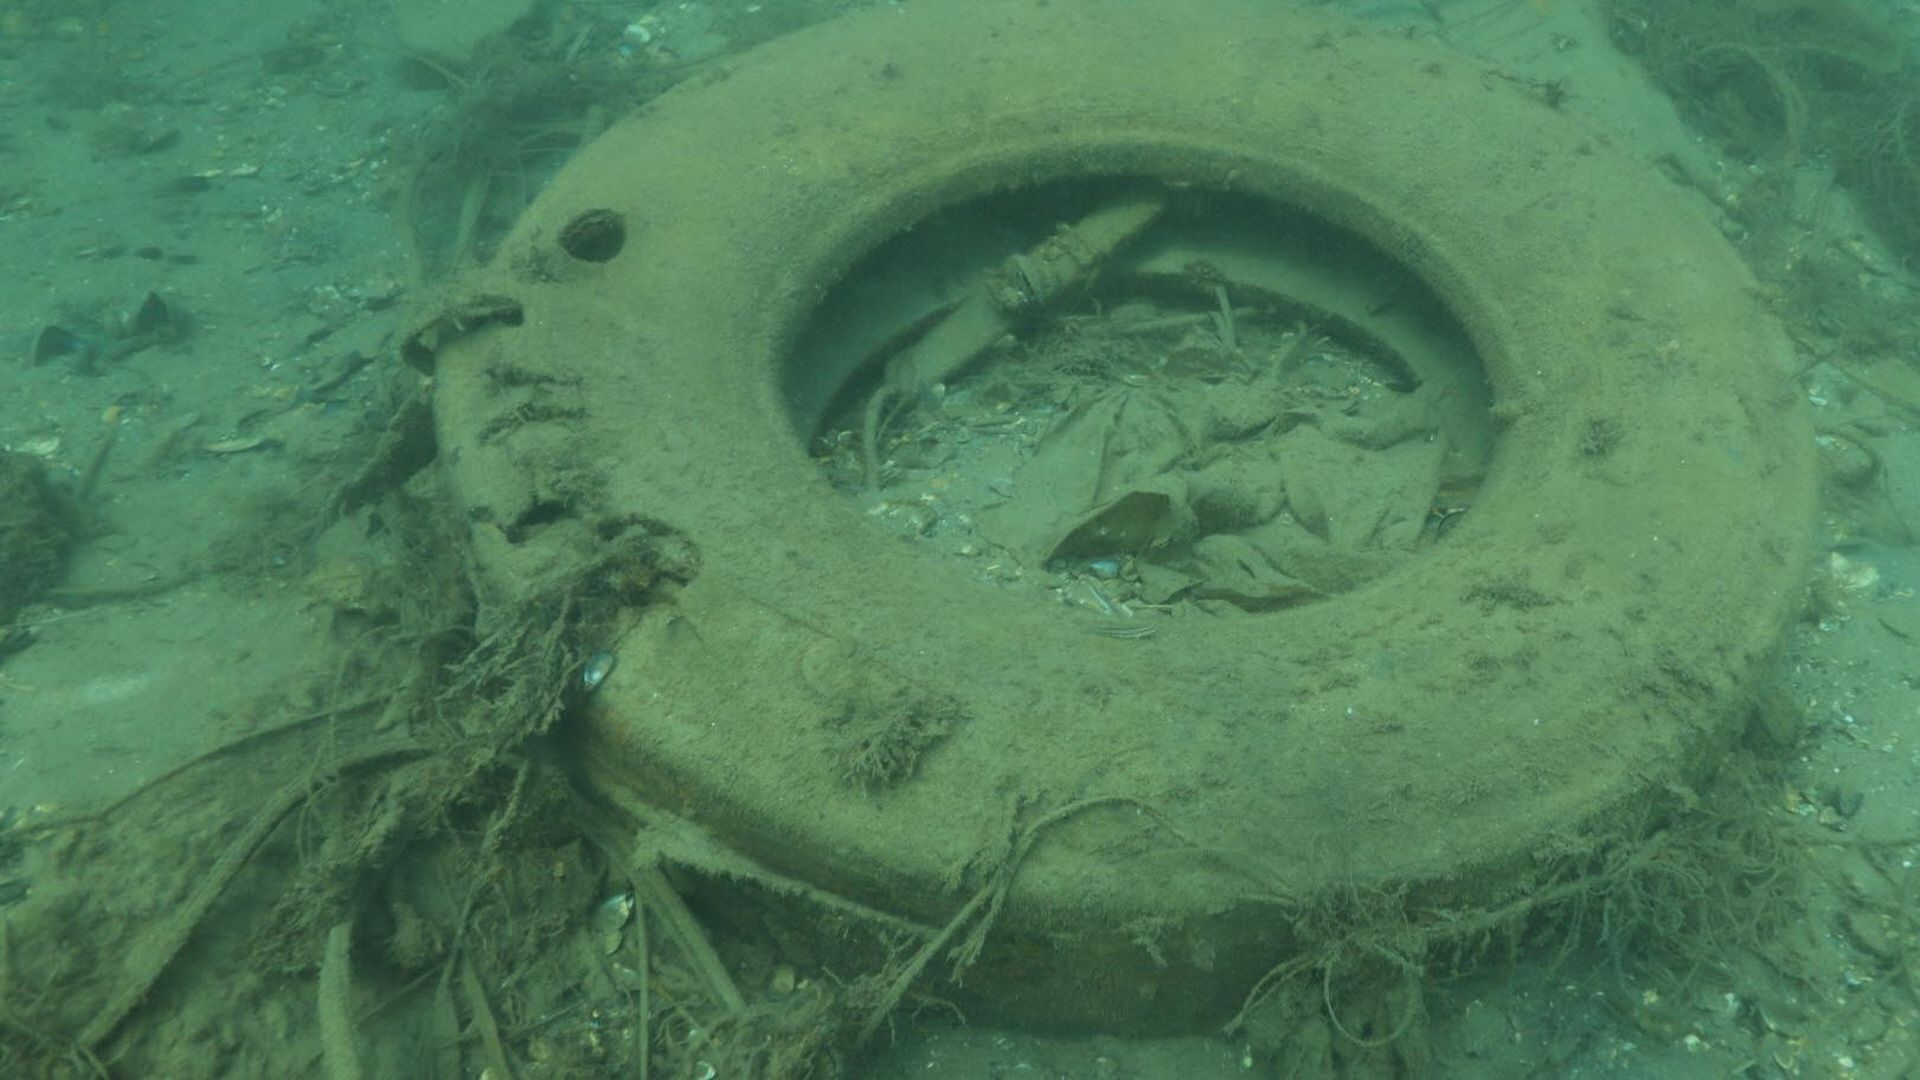tire: (429, 0, 1824, 1033)
